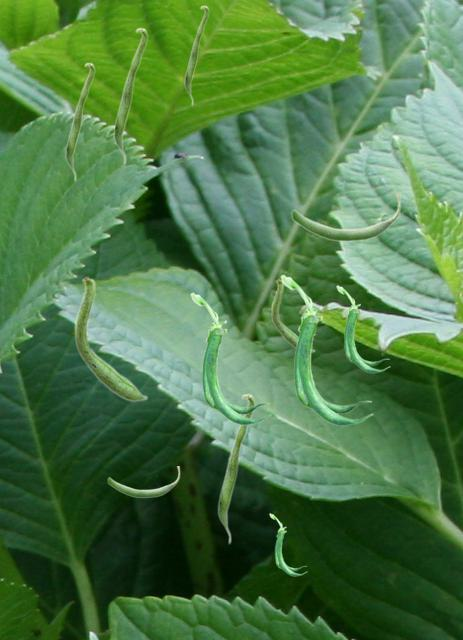french_bean: (280, 274, 372, 425), (190, 292, 270, 424), (74, 275, 147, 401), (217, 393, 254, 544), (291, 193, 400, 241), (113, 27, 147, 165), (336, 285, 389, 372), (65, 62, 94, 181), (271, 278, 314, 352), (184, 5, 208, 105), (269, 513, 306, 575), (107, 466, 179, 497)
